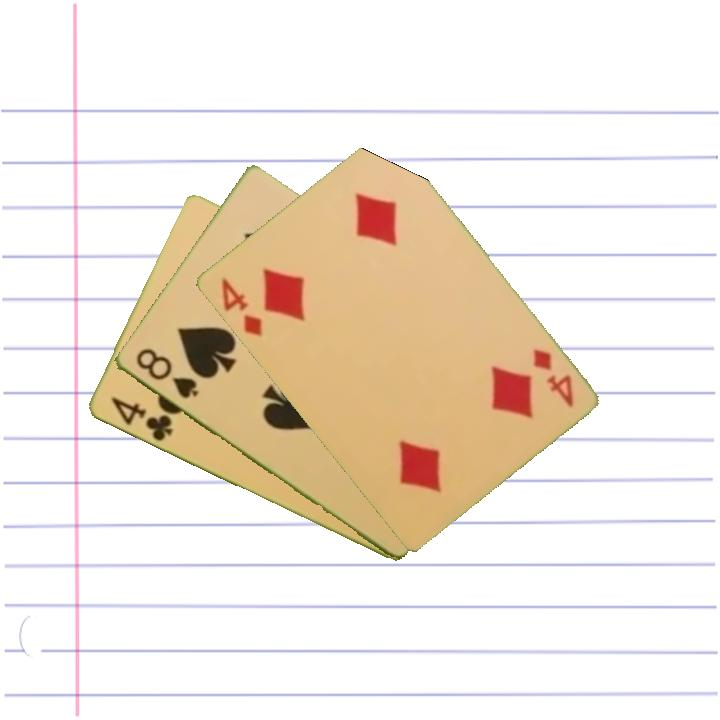4c: (107, 393, 176, 445)
4d: (217, 273, 265, 340), (528, 345, 576, 411)
8s: (131, 345, 201, 402)
